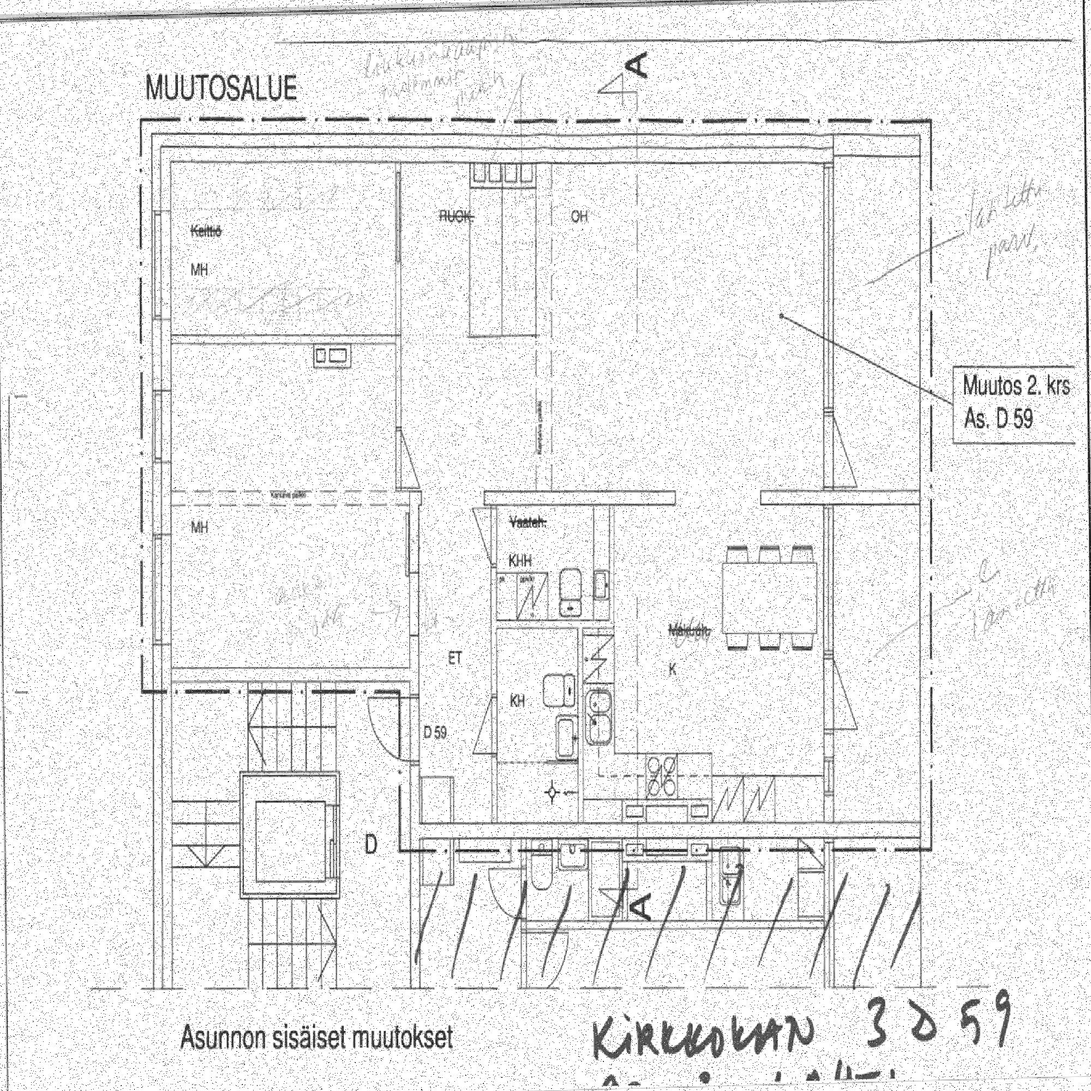wall: (151, 134, 171, 682), (151, 134, 469, 163), (536, 134, 834, 163), (824, 134, 834, 838), (584, 799, 712, 838), (151, 667, 419, 682), (469, 134, 537, 188), (920, 134, 929, 505), (410, 823, 584, 838), (484, 491, 676, 504), (824, 134, 929, 157), (151, 335, 401, 344), (396, 134, 401, 505), (713, 823, 834, 838), (409, 667, 419, 838), (834, 822, 929, 838), (825, 491, 929, 504), (491, 620, 497, 838), (578, 620, 584, 838), (497, 620, 615, 629), (314, 344, 351, 369), (761, 491, 825, 504), (609, 491, 615, 628), (491, 491, 497, 620), (410, 492, 419, 573), (395, 492, 419, 505), (410, 636, 419, 667), (411, 492, 425, 505)
